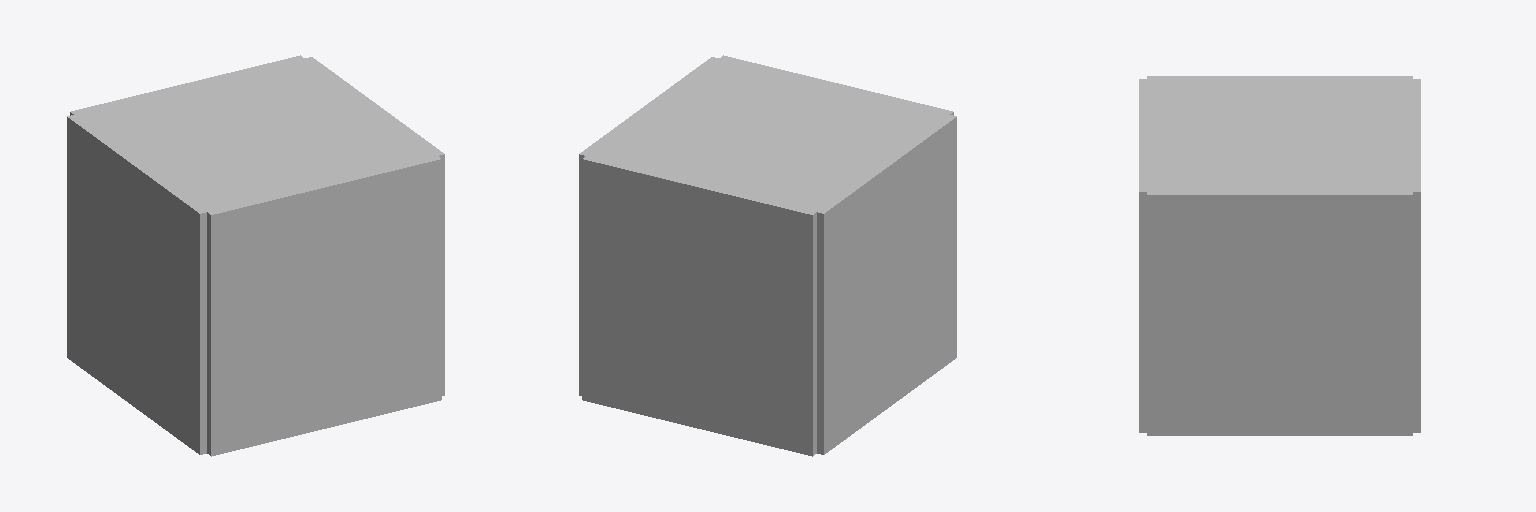
Rendered from Tile_Chapter01_1.obj.
The picture shows the model from 3 angles: view 1: azimuth 30°, elevation 25°; view 2: azimuth 150°, elevation 25°; view 3: azimuth 270°, elevation 25°; orthographic projection.
Parts seen in each view (by area): view 1: object 1; view 2: object 1; view 3: object 1.
Boxes of the visible parts, <box> form: object 1: <box>67,55,444,456</box>; object 1: <box>579,55,956,456</box>; object 1: <box>1139,76,1420,435</box>.
Bounding box in the file's own units: 3.4 × 3.2 × 3.4.